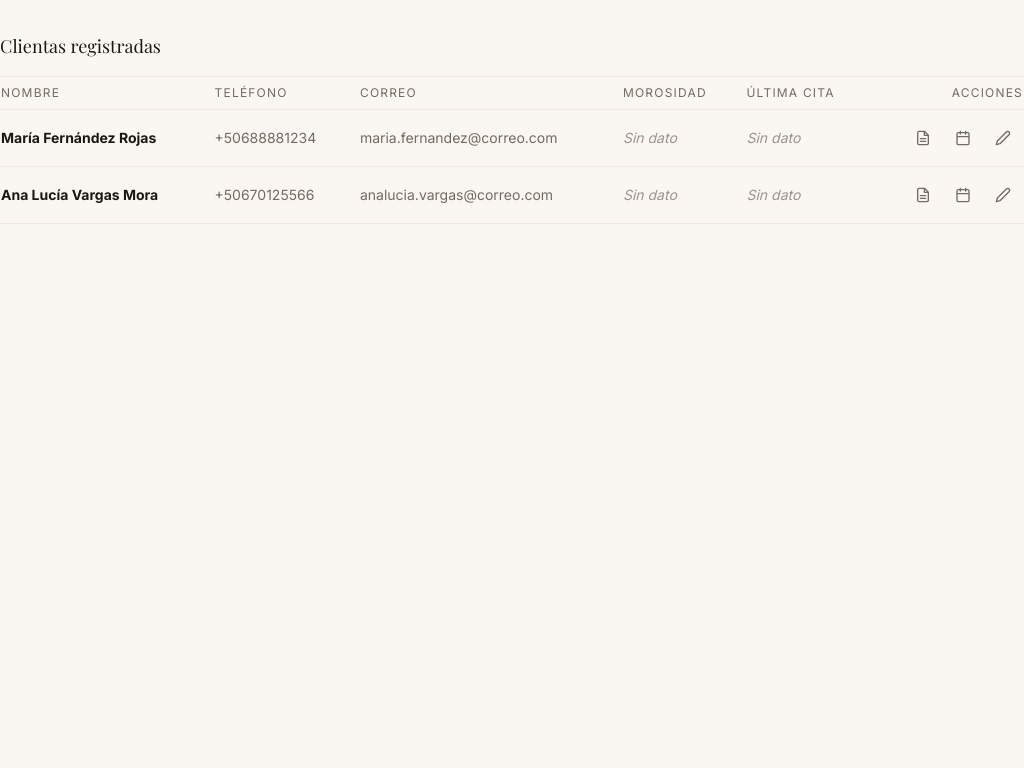
Test: EditClientDialog › cierra sin preguntar si no se toco nada, y devuelve el foco al lapiz de esa fila
What coordinates should you click on to do the following:
click the button named "Editar a Ana Lucía Vargas Mora"
I would click on:
 (1003, 195)
Its box is [983,175,1023,215].
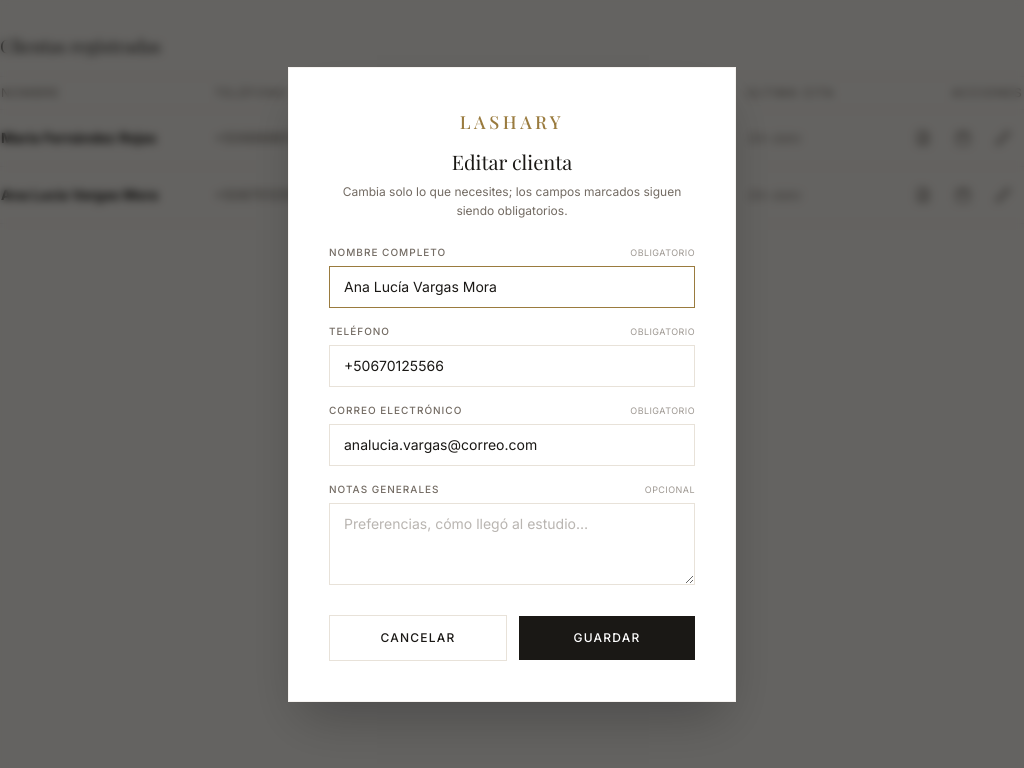
What coordinates should you click on to do the following:
click the button "Cancelar"
I would click on:
 (418, 638)
Its box is [329,614,507,660].
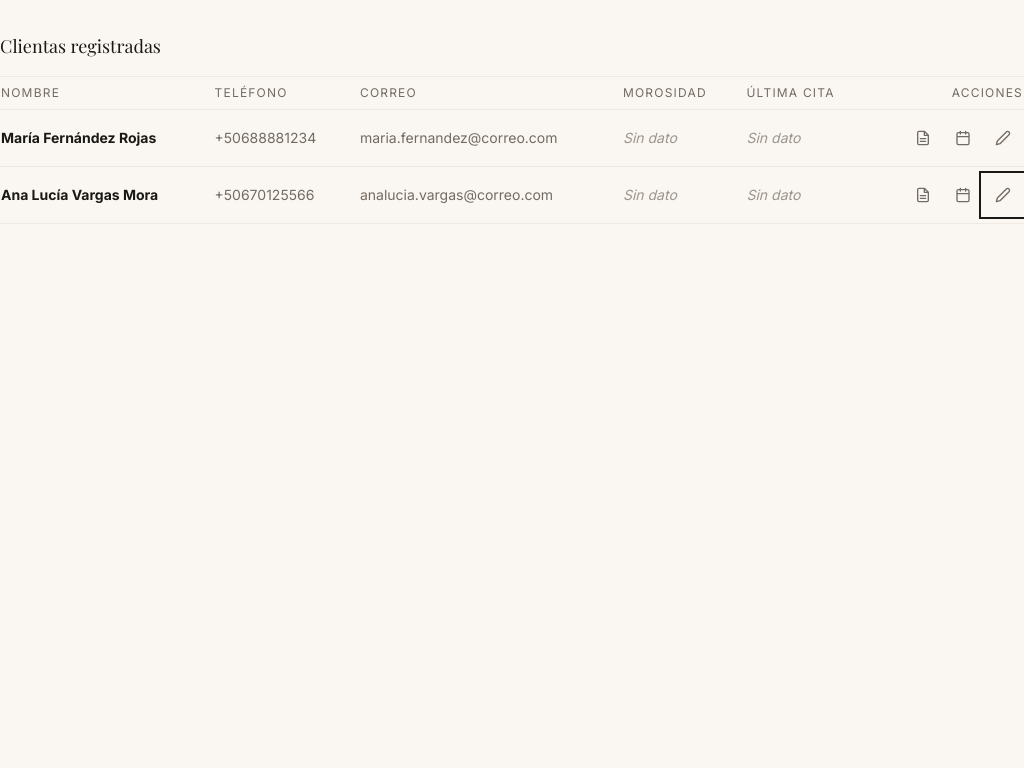
Expected: the heading "Editar clienta" is gone
